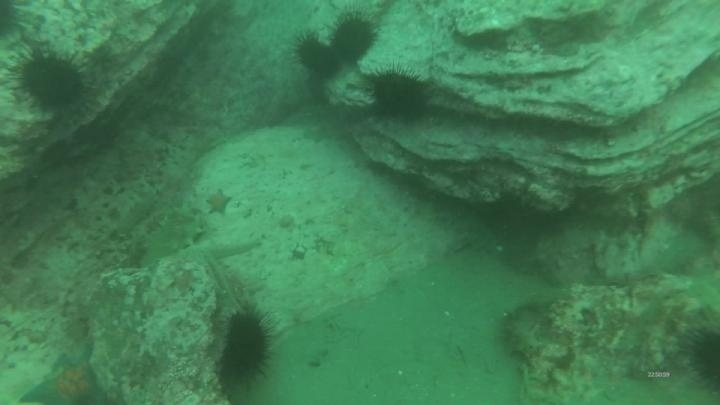echinus: (11, 46, 92, 117), (217, 303, 279, 388), (363, 64, 435, 125), (327, 12, 380, 65), (683, 323, 720, 396), (292, 31, 334, 76), (0, 0, 26, 43)
holothurian: (135, 205, 208, 269), (498, 301, 547, 365)
starfish: (18, 345, 110, 405), (203, 187, 234, 218)
